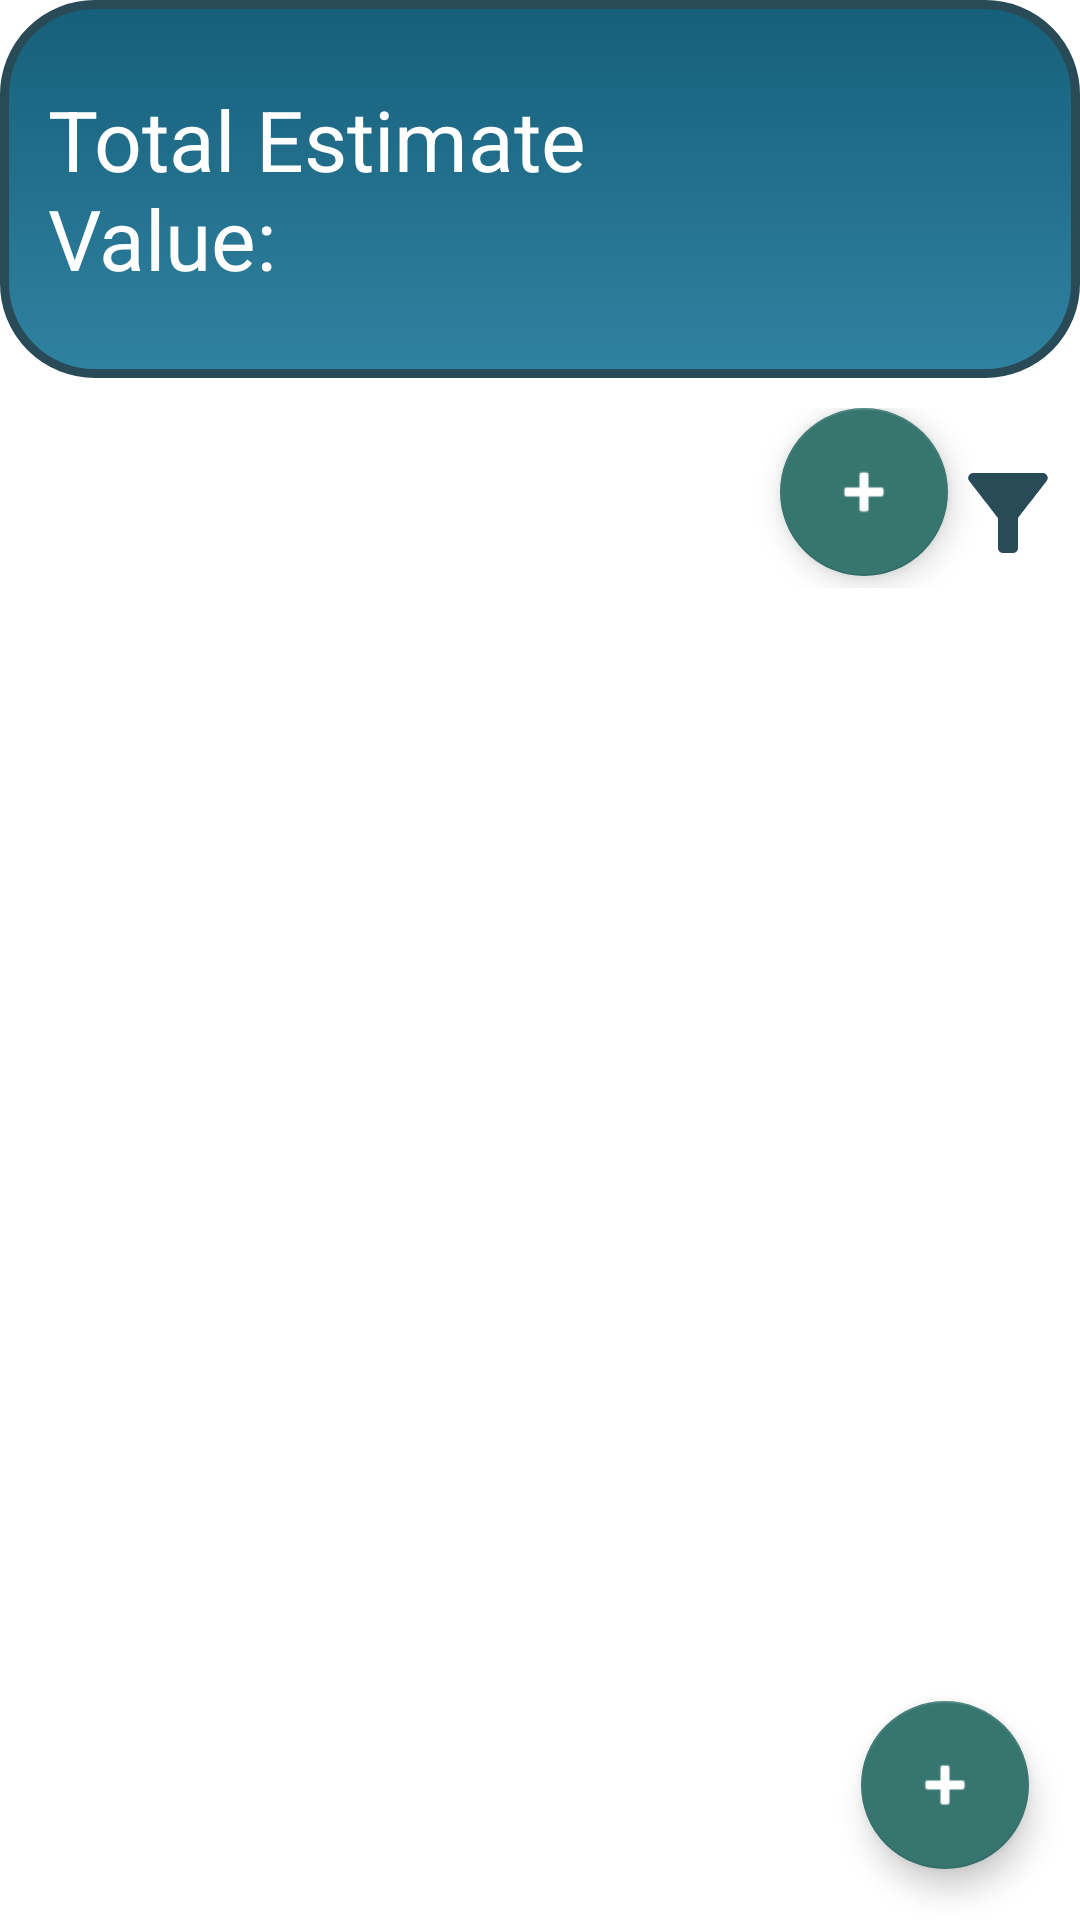

Screen size 1080px x 1920px. Icon name, then its center in pixels as point (x, y):
add: point (864, 492), point (945, 1785)
filter: point (1008, 513)
